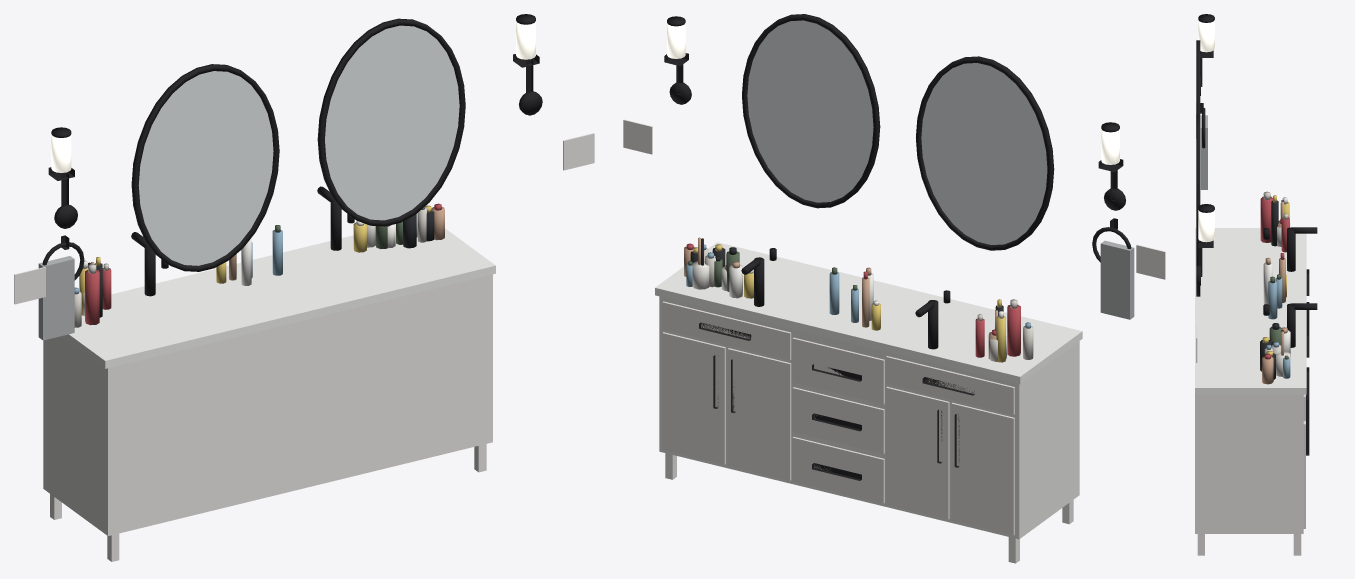
Rendered from master_bath_vanity.glb.
The picture shows the model from 3 angles, left to right: view 1: azimuth 30°, elevation 25°; view 2: azimuth 150°, elevation 25°; view 3: azimuth 270°, elevation 25°; orthographic projection. The views are drawn at different scales.
Visible parts, largest first — view 1: root; view 2: root; view 3: root.
Boxes of the visible parts, <box> form: root: <box>14,14,594,561</box>; root: <box>623,14,1165,563</box>; root: <box>1195,14,1317,555</box>.
Size of the model in its own units: 2.75 by 2.14 by 0.7174.
